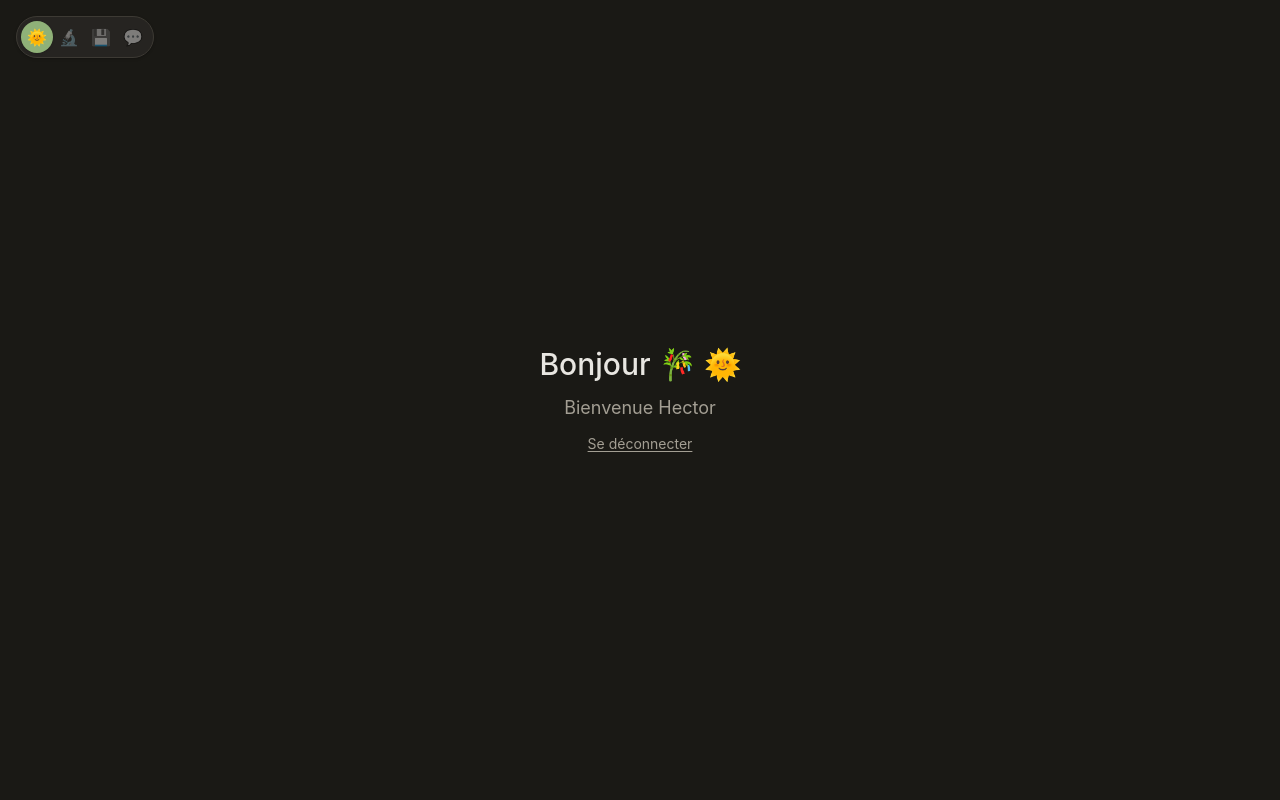
Test: LabApp — signed in › switches to the dashboard tab
expect the element named "Lab sections" is shown: met, box [16,16,154,58]
Click the tab named "Visualizations". click: (69, 37)
box: [53,21,85,53]
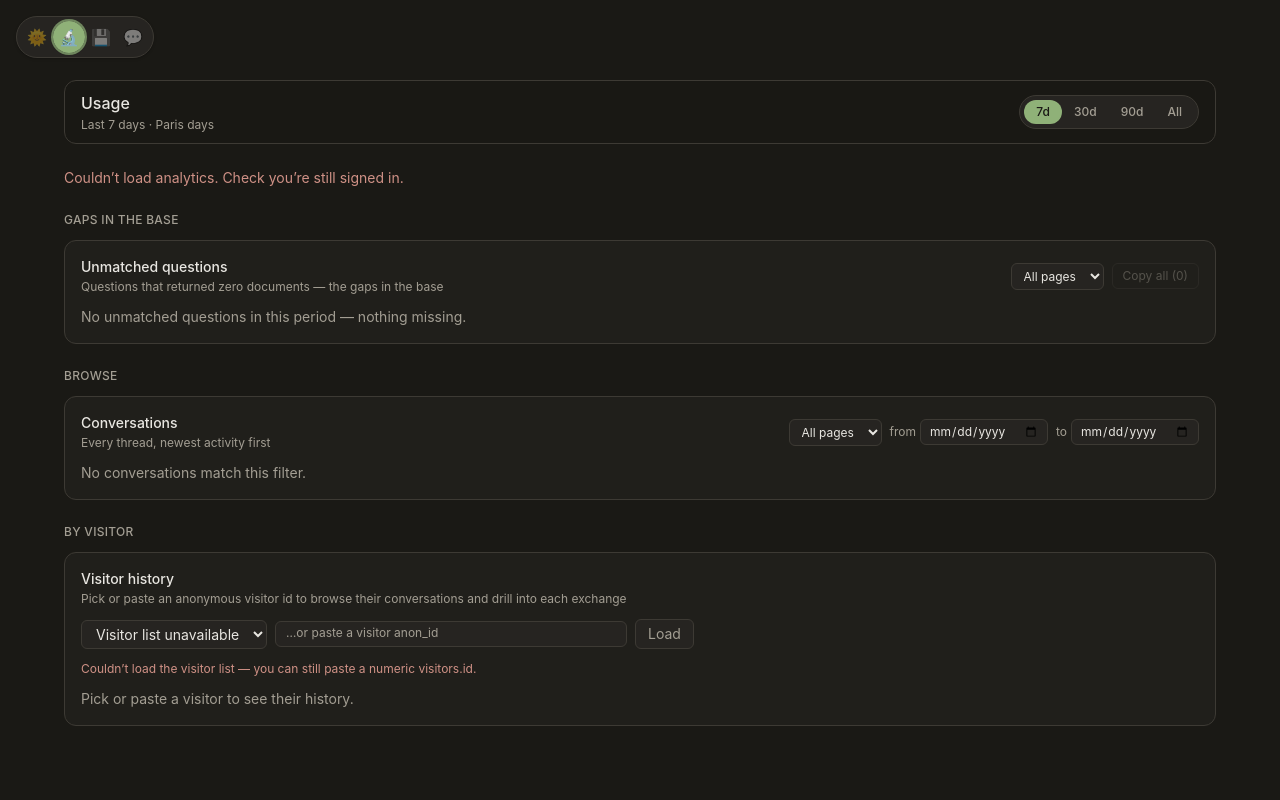
expect the heading "Usage" is shown: met, box [81,93,130,113]
expect the text "Bienvenue Hector" is gone: met
